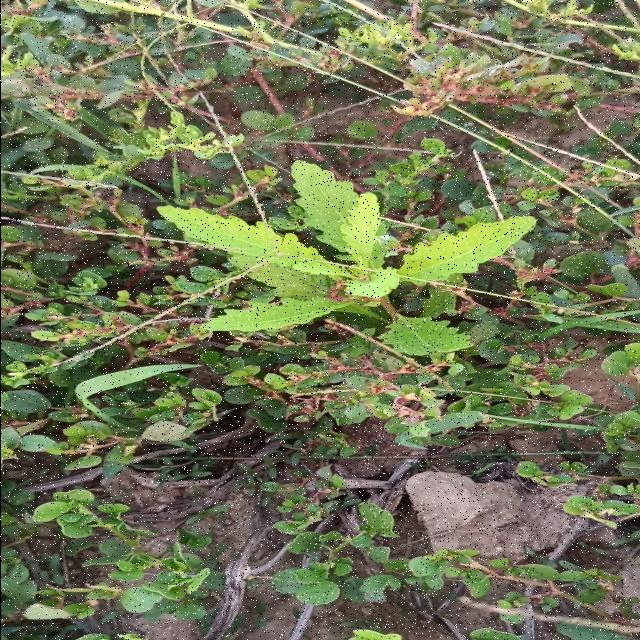weed: (157, 160, 536, 355)
